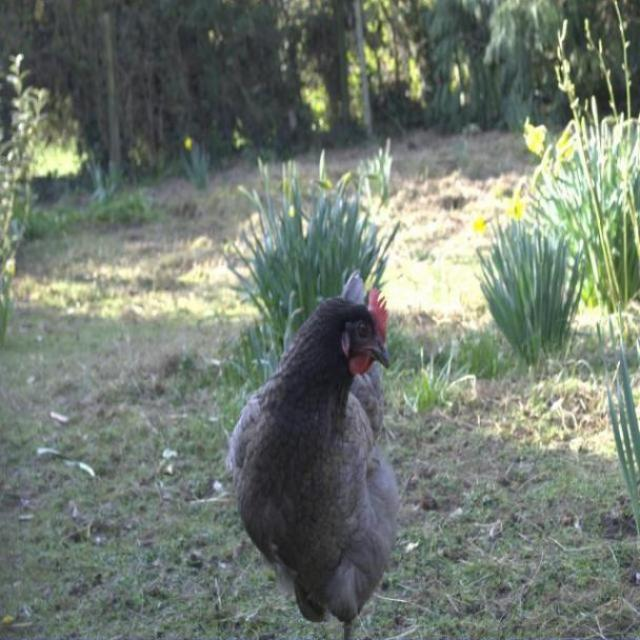Chicken: (238, 286, 402, 640)
